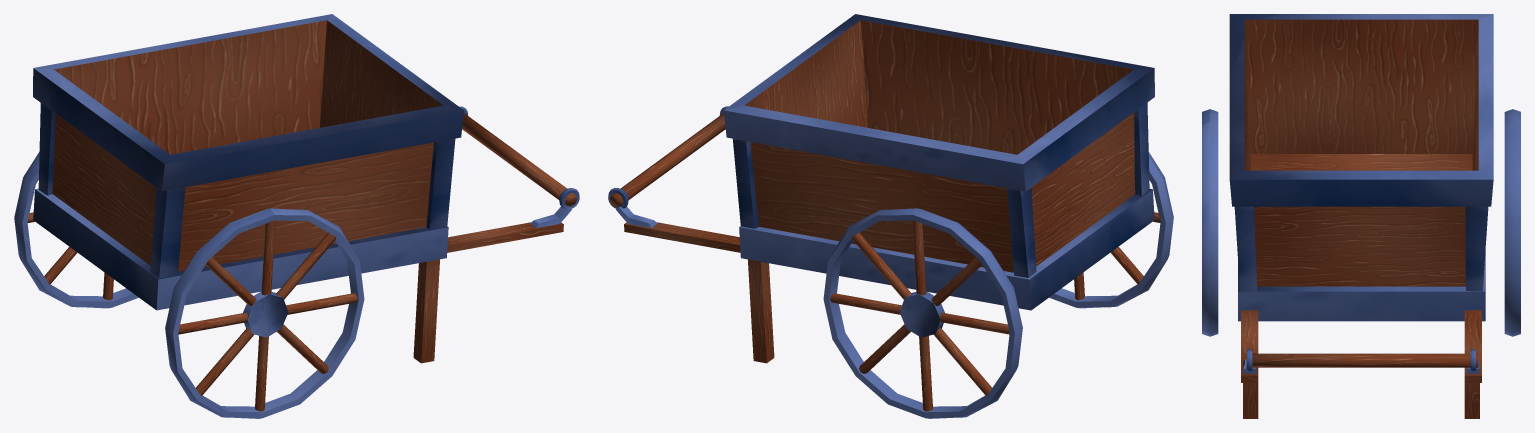
Rendered from OldWheelbarrow.fbx.
The picture shows the model from 3 angles, left to right: view 1: azimuth 30°, elevation 25°; view 2: azimuth 150°, elevation 25°; view 3: azimuth 270°, elevation 25°; orthographic projection.
Visible parts, largest first — view 1: OldWheelbarrow; view 2: OldWheelbarrow; view 3: OldWheelbarrow.
Part boxes in pixels (x1=…): OldWheelbarrow: x1=14, y1=14, x2=579, y2=418; OldWheelbarrow: x1=608, y1=14, x2=1173, y2=418; OldWheelbarrow: x1=1202, y1=14, x2=1520, y2=418.
Size of the model in its own units: 252 by 149 by 160.
